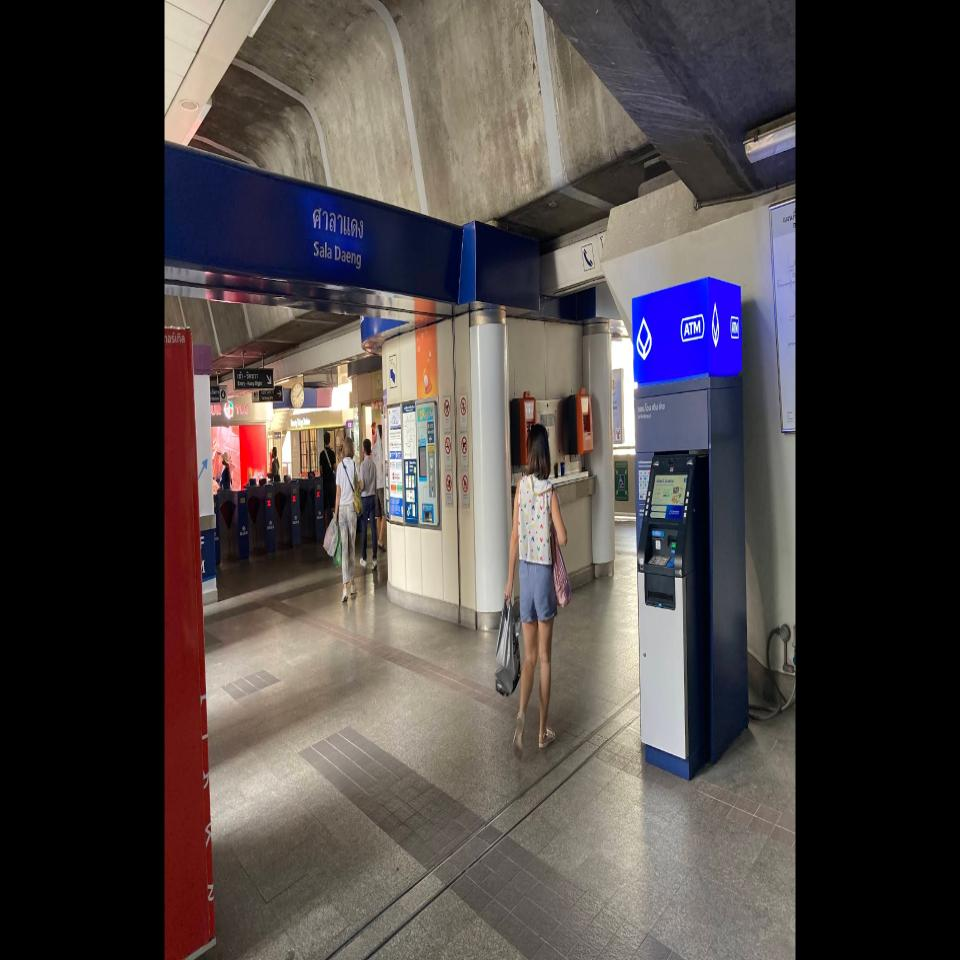Sala Daeng: (312, 206, 364, 269)
